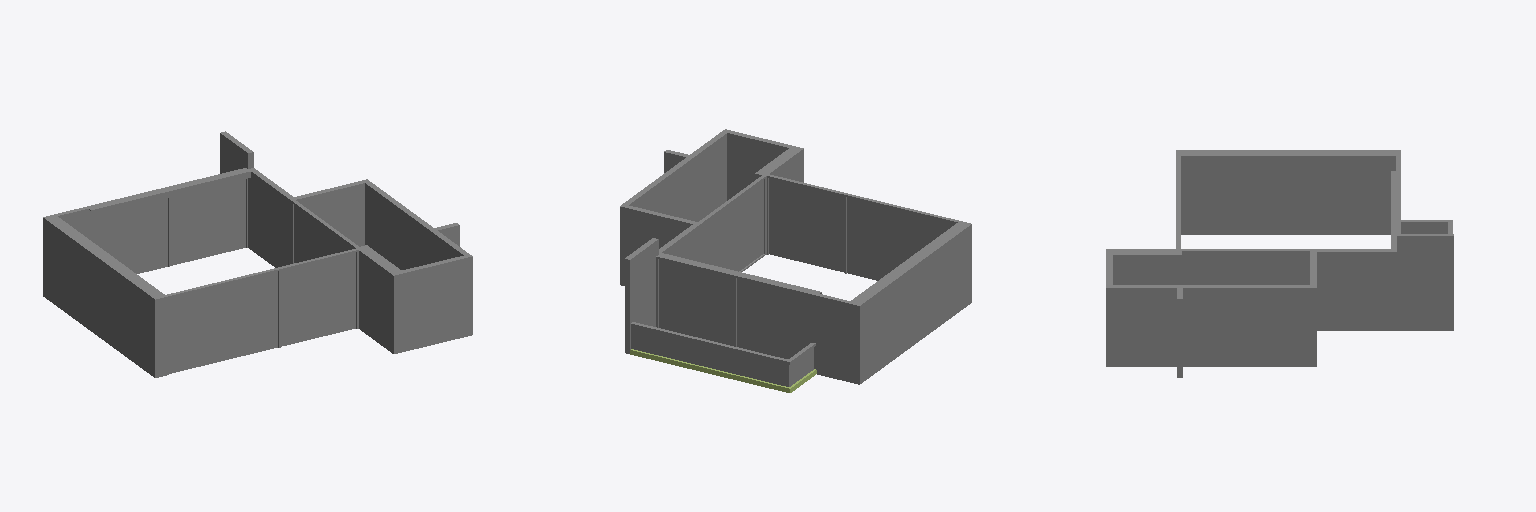
The model's file is wall.obj.
3 renders of one model, left to right at view 1: azimuth 30°, elevation 25°; view 2: azimuth 150°, elevation 25°; view 3: azimuth 270°, elevation 25°, orthographic.
Parts seen in each view (by area): view 1: Rectangle001, Line002, Line001, Rectangle009, Rectangle008, Rectangle006, Rectangle007, Rectangle003, Line109, Rectangle010, Rectangle032, Rectangle031 (+1 smaller); view 2: Rectangle001, Line001, Line002, Rectangle008, Rectangle009, Rectangle006, Rectangle007, Line107, Rectangle003, Rectangle032, Line106, Rectangle005 (+4 smaller); view 3: Line001, Rectangle001, Line002, Rectangle003, Rectangle031, Rectangle049.
Part boxes in pixels (left/top/right/bottom): Rectangle001: left=43, top=214, right=166, bottom=377; Line002: left=357, top=223, right=472, bottom=353; Line001: left=220, top=149, right=432, bottom=269; Rectangle009: left=169, top=271, right=277, bottom=373; Rectangle008: left=281, top=252, right=355, bottom=346; Rectangle006: left=170, top=179, right=245, bottom=265; Rectangle007: left=95, top=198, right=167, bottom=273; Rectangle003: left=294, top=204, right=354, bottom=262; Line109: left=89, top=169, right=250, bottom=215; Rectangle010: left=166, top=248, right=358, bottom=374; Rectangle032: left=55, top=205, right=93, bottom=242; Rectangle031: left=220, top=131, right=253, bottom=168; Rectangle001: left=848, top=221, right=971, bottom=384; Line001: left=620, top=157, right=701, bottom=353; Line002: left=664, top=129, right=803, bottom=254; Rectangle008: left=769, top=178, right=844, bottom=272; Rectangle009: left=847, top=197, right=955, bottom=280; Rectangle006: left=659, top=259, right=733, bottom=345; Rectangle007: left=737, top=278, right=808, bottom=358; Line107: left=631, top=326, right=813, bottom=386; Rectangle003: left=703, top=180, right=763, bottom=271; Rectangle032: left=811, top=293, right=849, bottom=381; Line106: left=630, top=349, right=816, bottom=392; Rectangle005: left=656, top=255, right=812, bottom=346; Line001: left=1183, top=249, right=1453, bottom=366; Rectangle001: left=1176, top=150, right=1400, bottom=234; Line002: left=1106, top=249, right=1182, bottom=377; Rectangle003: left=1184, top=253, right=1308, bottom=284; Rectangle031: left=1397, top=234, right=1453, bottom=251; Rectangle049: left=1182, top=249, right=1309, bottom=284.
Size of the model in its own units: 486 by 144 by 480.